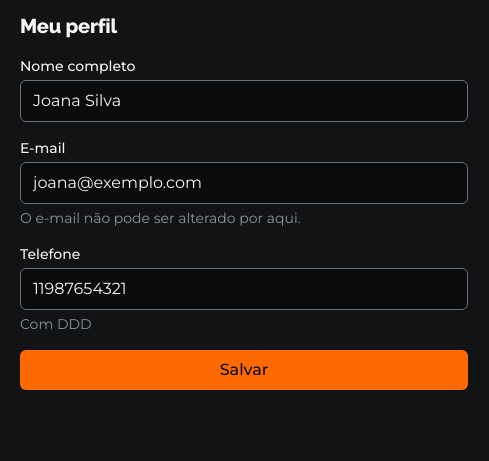
Test: Perfil › aceita apagar o telefone
Clear the field labelled "Telefone" at (244, 289), box top-left (20, 268), bottom-right (468, 310)
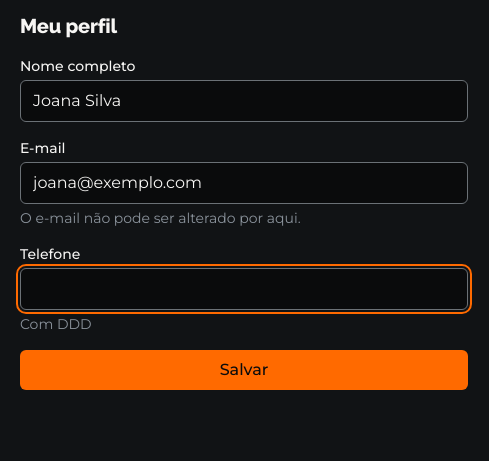
Click the button "Salvar" at (244, 370), box top-left (20, 350), bottom-right (468, 390)
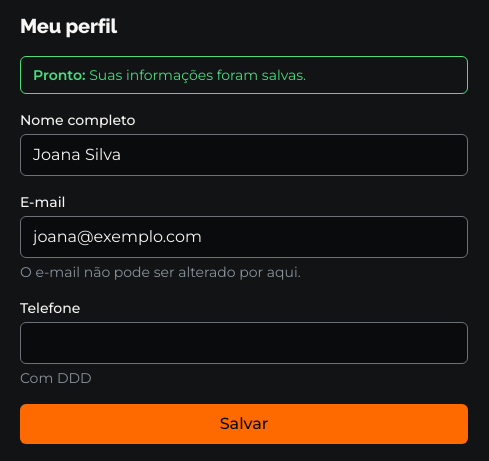
Check: the message "Pronto: Suas informações foram salvas." is shown, box top-left (20, 56), bottom-right (468, 94)
